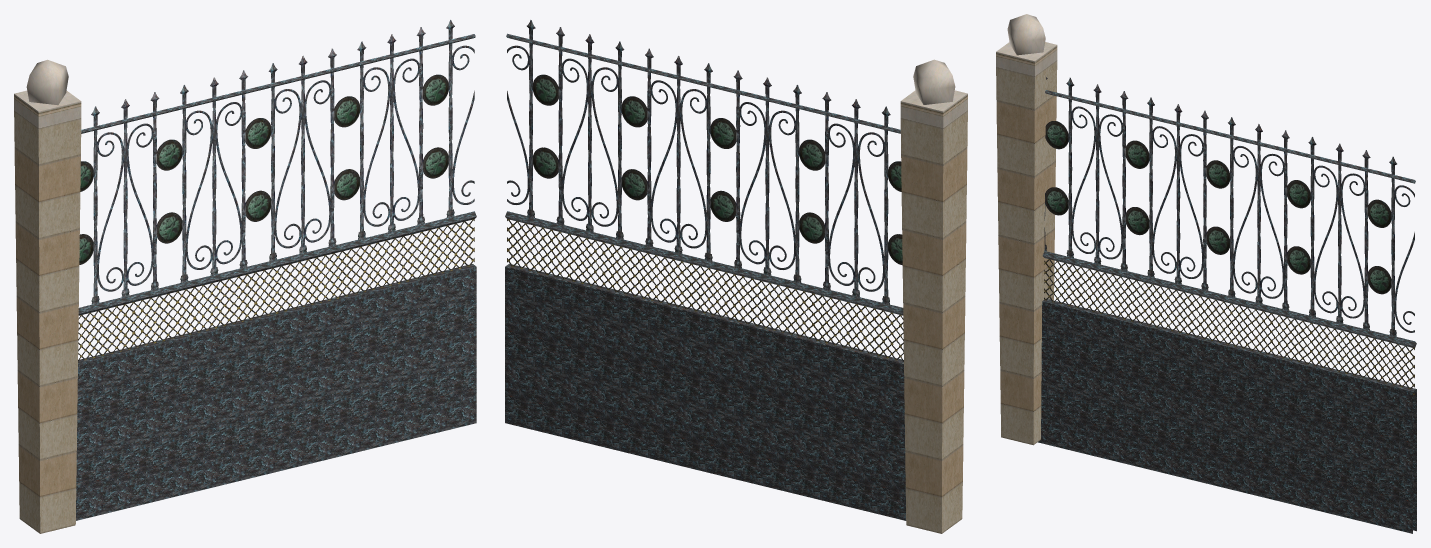
File: thm_nboo_imprv_metal_fence_wall_lg_s02_l1.fbx
The picture shows the model from 3 angles, left to right: view 1: azimuth 30°, elevation 25°; view 2: azimuth 150°, elevation 25°; view 3: azimuth 330°, elevation 25°; orthographic projection. The views are drawn at different scales.
Parts seen in each view (by area): view 1: mesh_node; view 2: mesh_node; view 3: mesh_node.
Boxes of the visible parts, <box> form: mesh_node: <box>14,20,476,533</box>; mesh_node: <box>505,20,967,533</box>; mesh_node: <box>996,14,1416,533</box>.
Bounding box in the file's own units: 6.3 × 6.26 × 0.6.
